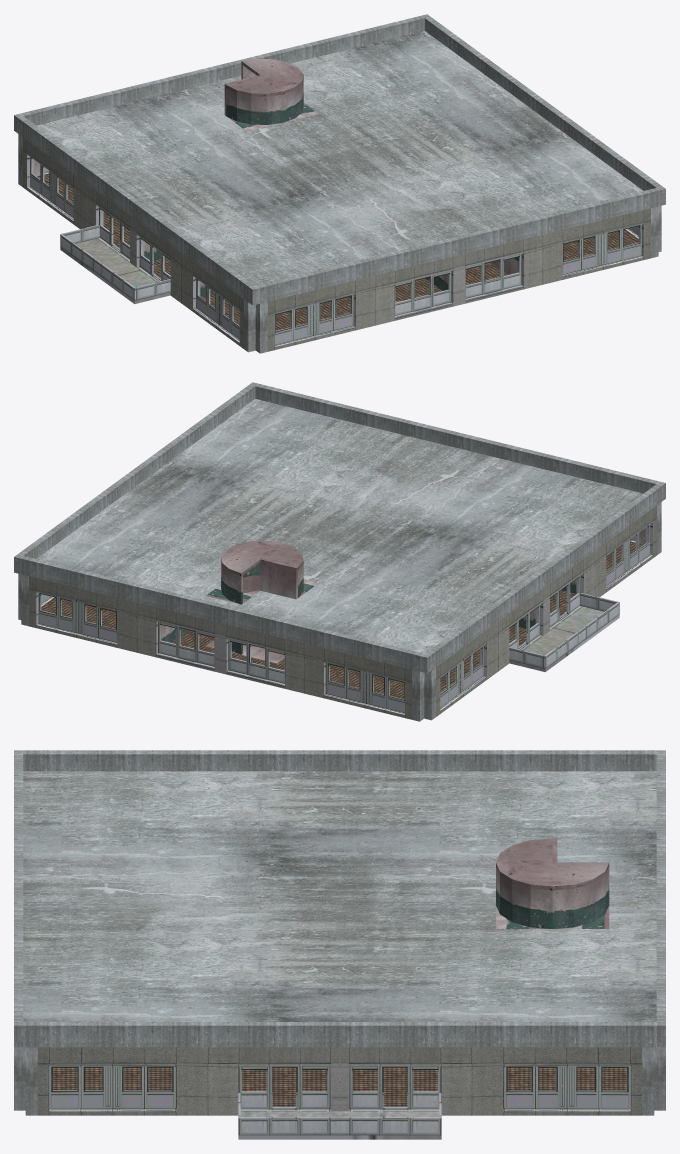
Rendered from BagSS10top_high.fbx.
The picture shows the model from 3 angles, top to bottom: view 1: azimuth 30°, elevation 25°; view 2: azimuth 150°, elevation 25°; view 3: azimuth 270°, elevation 25°; orthographic projection. The views are drawn at different scales.
Visible parts, largest first — view 1: topRoof700, topMain700, topStairs700, topFLoor700, topWalls700; view 2: topRoof700, topMain700, topStairs700, topFLoor700, topWalls700; view 3: topRoof700, topMain700, topStairs700, topFLoor700.
Part boxes in pixels (x1,y1,x2,y2): topRoof700: (14, 14, 665, 353); topMain700: (22, 137, 650, 351); topStairs700: (224, 58, 318, 131); topFLoor700: (37, 173, 638, 330); topWalls700: (34, 160, 518, 296); topRoof700: (14, 382, 665, 721); topMain700: (29, 505, 657, 719); topStairs700: (206, 540, 318, 663); topFLoor700: (41, 541, 642, 698); topWalls700: (161, 528, 645, 642); topRoof700: (14, 750, 665, 1115); topMain700: (37, 1047, 642, 1139); topStairs700: (496, 838, 609, 928); topFLoor700: (53, 1067, 626, 1106).
Bounding box in the file's own units: 51.84 × 8.64 × 44.16.
